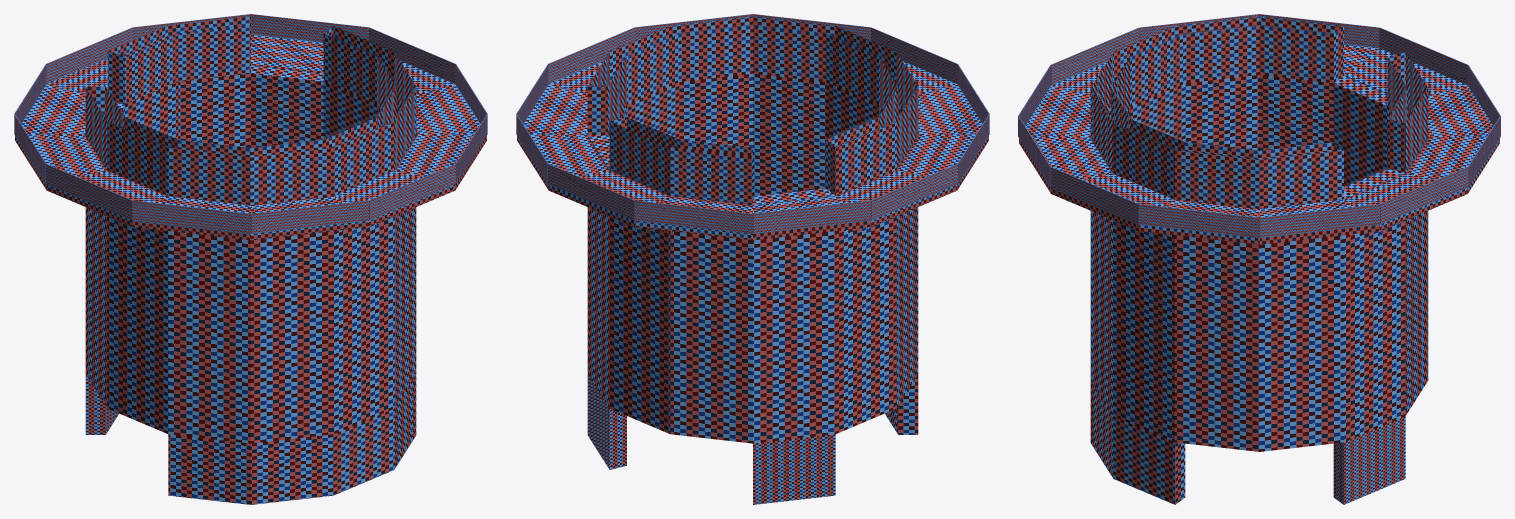
The model's file is observation_tower_01.fbx.
3 views of the same model, side by side, from view 1: azimuth 30°, elevation 25°; view 2: azimuth 150°, elevation 25°; view 3: azimuth 270°, elevation 25° (orthographic).
Visible parts, largest first — view 1: observation_tower_01; view 2: observation_tower_01; view 3: observation_tower_01.
Boxes of the visible parts, x1,y1,x2,y2 form: observation_tower_01: (14, 14, 487, 504); observation_tower_01: (516, 14, 989, 504); observation_tower_01: (1018, 14, 1500, 504).
Bounding box in the file's own units: 2147 × 1743 × 2147.
Materials: 1 (1 with a texture image).
